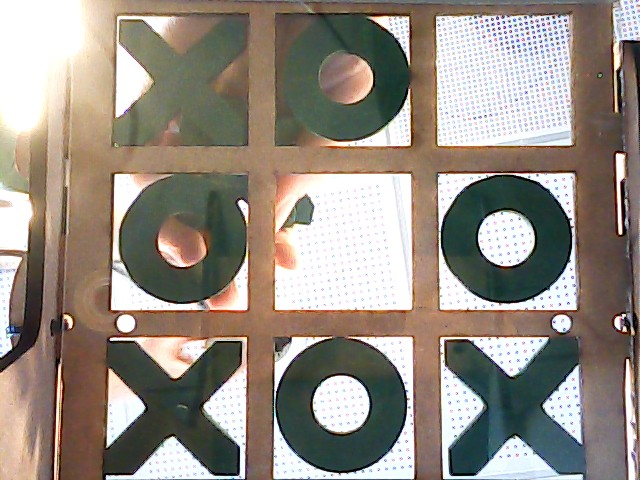O: (276, 338, 413, 475), (441, 174, 574, 310), (276, 13, 411, 144), (115, 176, 247, 303)
X: (443, 339, 583, 475), (105, 339, 244, 475), (119, 18, 248, 147)
